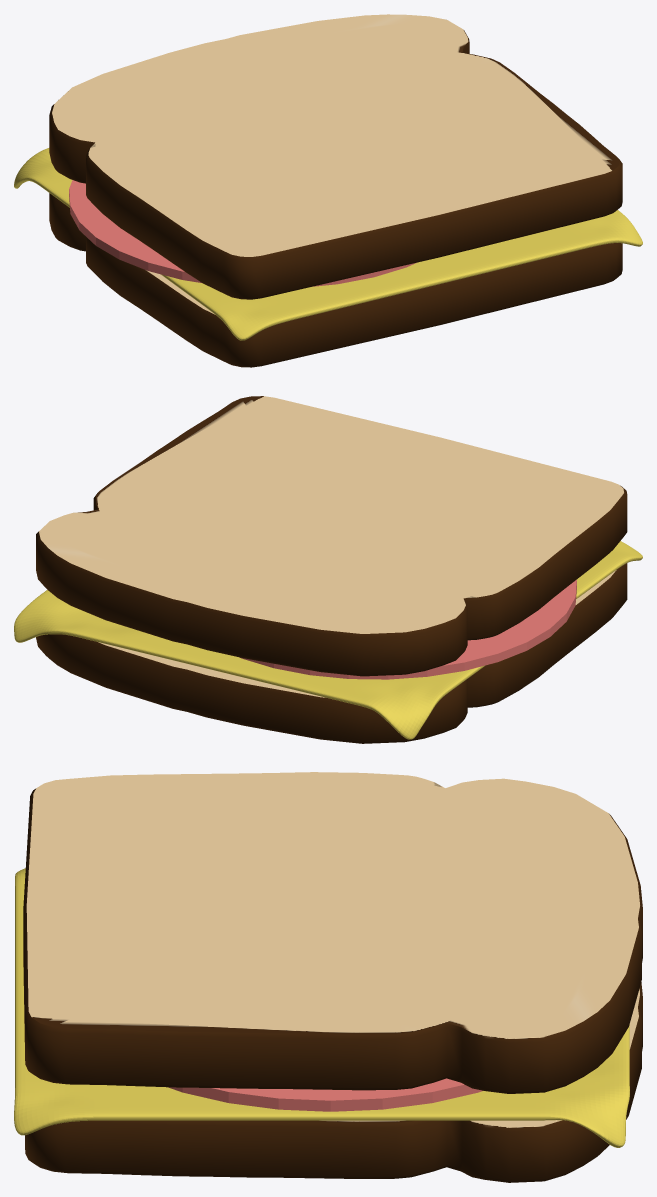
The model's file is sandwich.fbx.
3 renders of one model, top to bottom at view 1: azimuth 30°, elevation 25°; view 2: azimuth 150°, elevation 25°; view 3: azimuth 270°, elevation 25°, orthographic. The views are drawn at different scales.
Parts seen in each view (by area): view 1: Top Bread, Bottom Bread, cheese, ham; view 2: Top Bread, Bottom Bread, cheese, ham; view 3: Top Bread, Bottom Bread, cheese, ham.001.
Part boxes in pixels (x1,y1,x2,y2): Top Bread: (49, 14, 622, 299); Bottom Bread: (49, 193, 622, 367); cheese: (14, 148, 642, 340); ham: (69, 180, 416, 286); Top Bread: (36, 396, 627, 676); Bottom Bread: (36, 563, 627, 743); cheese: (14, 541, 642, 739); ham: (239, 580, 576, 679); Top Bread: (23, 772, 642, 1093); Bottom Bread: (25, 982, 642, 1182); cheese: (14, 868, 629, 1147); ham.001: (168, 1078, 483, 1111).
Size of the model in its own units: 16.31 by 3.89 by 15.35.
